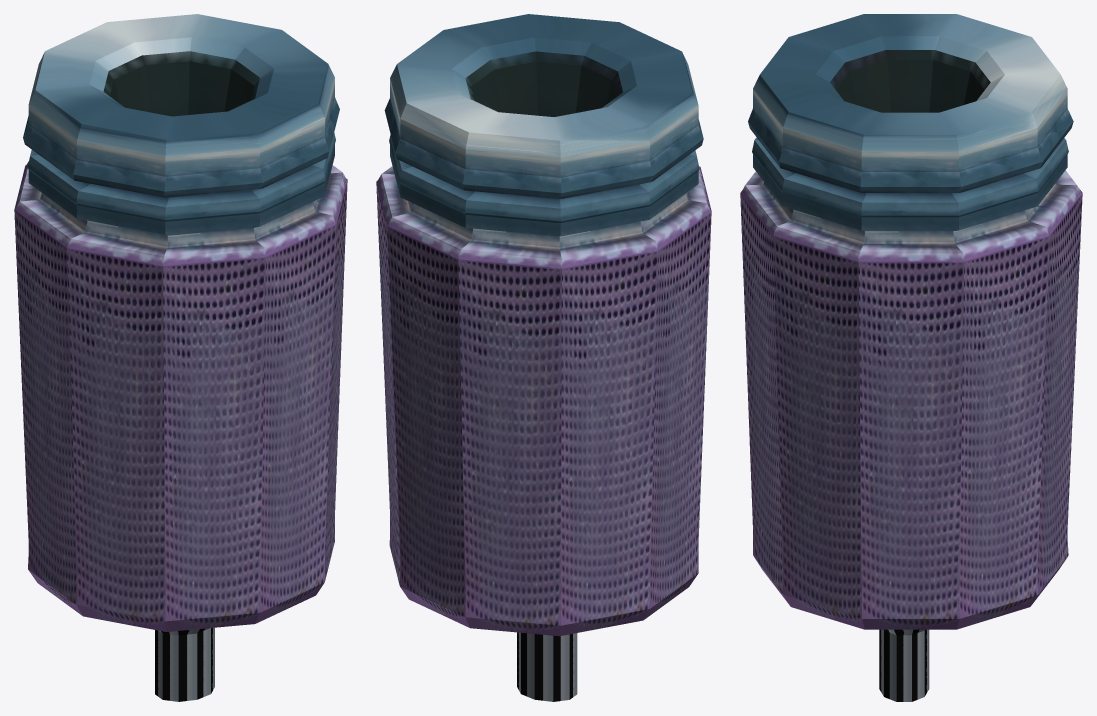
Rendered from MetalPurpleBin.fbx.
3 views of the same model, side by side, from view 1: azimuth 30°, elevation 25°; view 2: azimuth 150°, elevation 25°; view 3: azimuth 270°, elevation 25° (orthographic).
Visible parts, largest first — view 1: Metal Purple Bin.001; view 2: Metal Purple Bin.001; view 3: Metal Purple Bin.001.
Part boxes in pixels (<box>): Metal Purple Bin.001: <box>14,14,347,701</box>; Metal Purple Bin.001: <box>376,14,711,701</box>; Metal Purple Bin.001: <box>740,14,1082,701</box>.
Size of the model in its own units: 345 by 718 by 363.
Materials: 1 (1 with a texture image).
